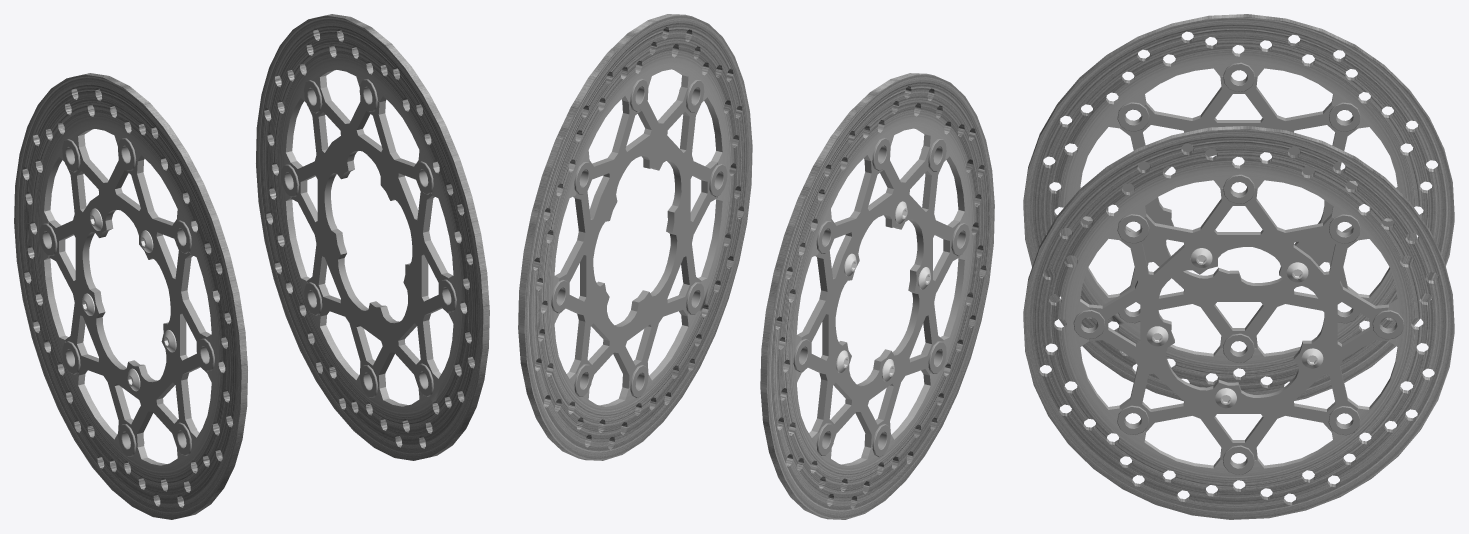
Rendered from FrontRotors_STOCK.glb.
3 views of the same model, side by side, from view 1: azimuth 30°, elevation 25°; view 2: azimuth 150°, elevation 25°; view 3: azimuth 270°, elevation 25° (orthographic). The views are drawn at different scales.
Parts seen in each view (by area): view 1: FrontRotors_STOCK; view 2: FrontRotors_STOCK; view 3: FrontRotors_STOCK.
Part boxes in pixels (left/top/right/bottom): FrontRotors_STOCK: left=14, top=14, right=489, bottom=519; FrontRotors_STOCK: left=518, top=14, right=994, bottom=519; FrontRotors_STOCK: left=1023, top=14, right=1454, bottom=519.
Bounding box in the file's own units: 0.2009 × 0.3087 × 0.3087.
3 materials, 1 textured.
